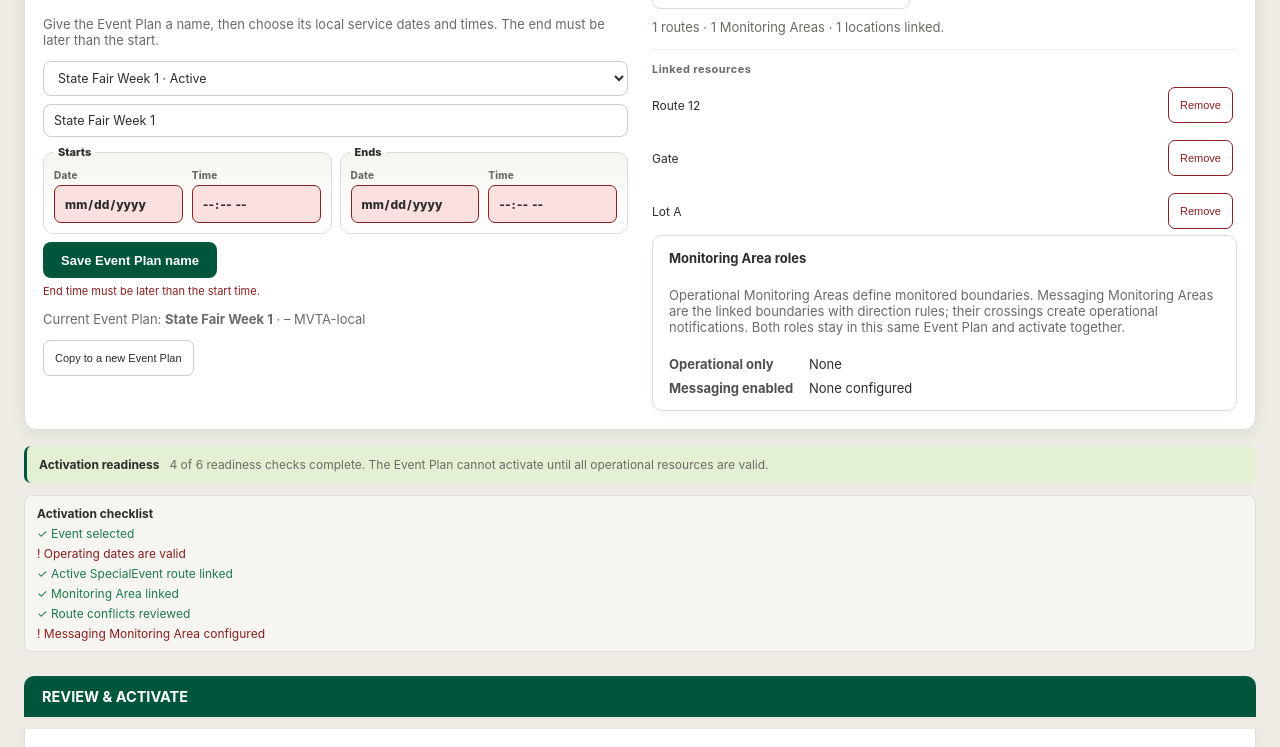
Test: EventPlanning › recurring Event Plans › copies the scope to a new draft and leaves the dates to be set
(page scrolled)
Click the button "Copy to a new Event Plan".
click(118, 358)  # box top-left (43, 340), bottom-right (194, 376)
(page scrolled)
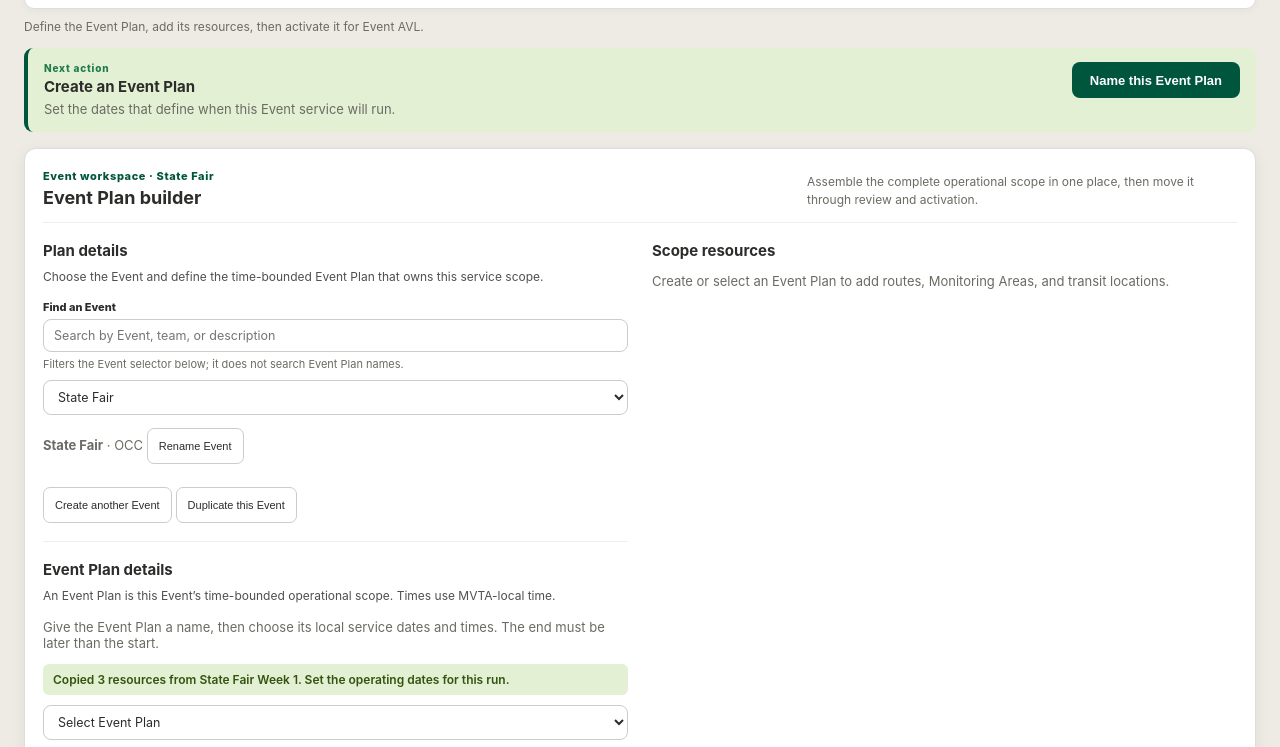
Result: the text "Copied 3 resources" is shown at top-left (53, 672), bottom-right (510, 687)
